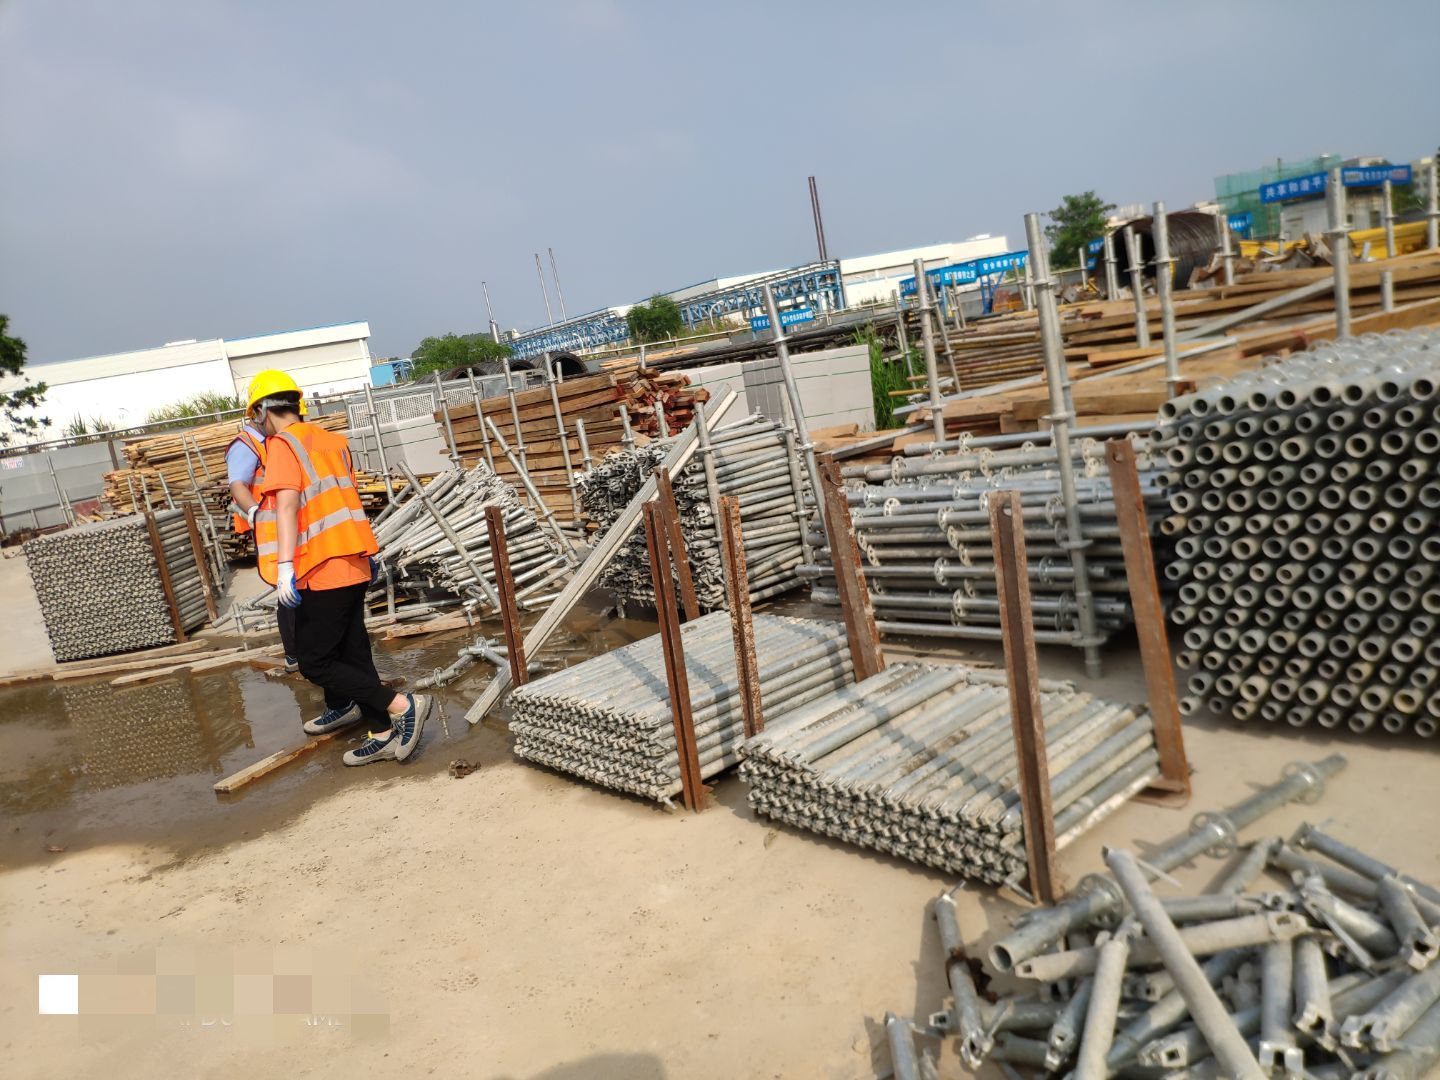helmet: (244, 375, 297, 398)
person: (226, 372, 396, 762)
scaffold: (1117, 362, 1440, 757), (748, 664, 1151, 871), (819, 405, 1158, 644), (490, 606, 854, 782), (568, 404, 836, 603), (17, 497, 224, 679)
slogan: (1264, 172, 1334, 200), (980, 254, 1020, 273)
vest: (260, 431, 381, 590)
wood: (433, 373, 600, 514), (106, 455, 239, 504), (114, 422, 260, 460)
